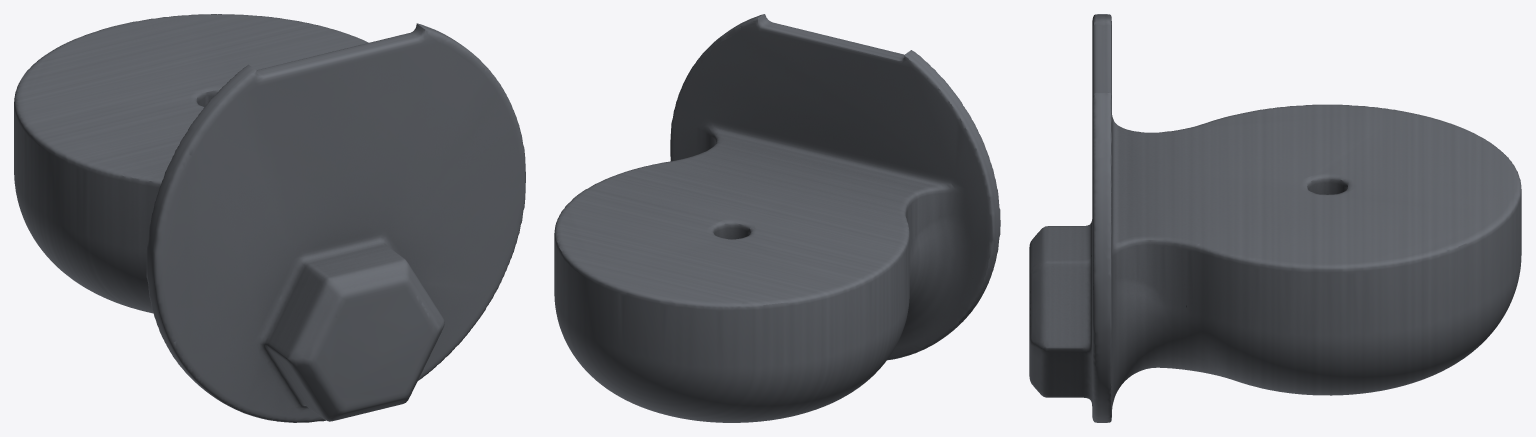
The model's file is right_elbow_inword.obj.
3 views of the same model, side by side, from view 1: azimuth 30°, elevation 25°; view 2: azimuth 150°, elevation 25°; view 3: azimuth 270°, elevation 25° (orthographic). The views are drawn at different scales.
Parts seen in each view (by area): view 1: right_elbow_inword; view 2: right_elbow_inword; view 3: right_elbow_inword.
Part boxes in pixels (x1=…): right_elbow_inword: x1=14, y1=14, x2=525, y2=422; right_elbow_inword: x1=554, y1=14, x2=1000, y2=422; right_elbow_inword: x1=1029, y1=14, x2=1521, y2=422.
Bounding box in the file's own units: 0.056 × 0.0529 × 0.0674.
1 material, 1 textured.
